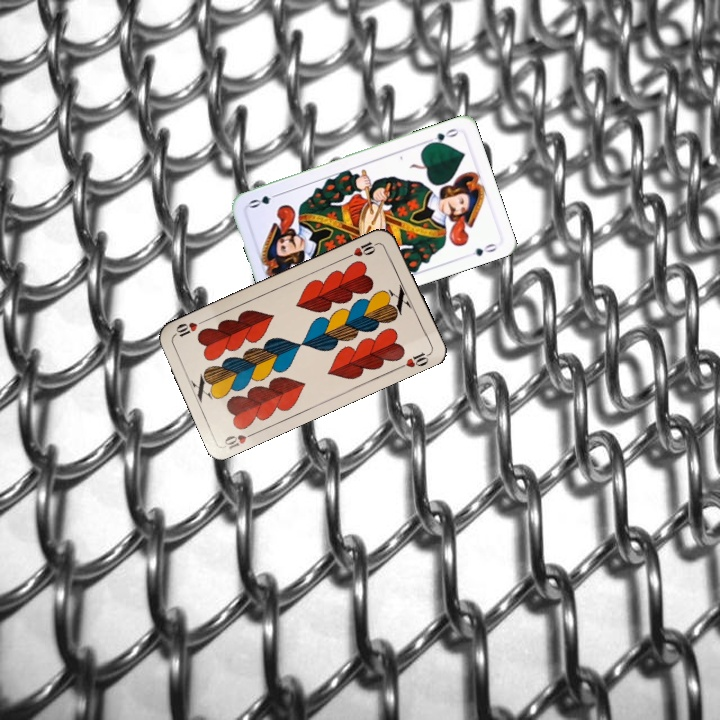GO: (422, 124, 461, 148)
H10: (220, 428, 260, 452), (343, 237, 382, 260)
